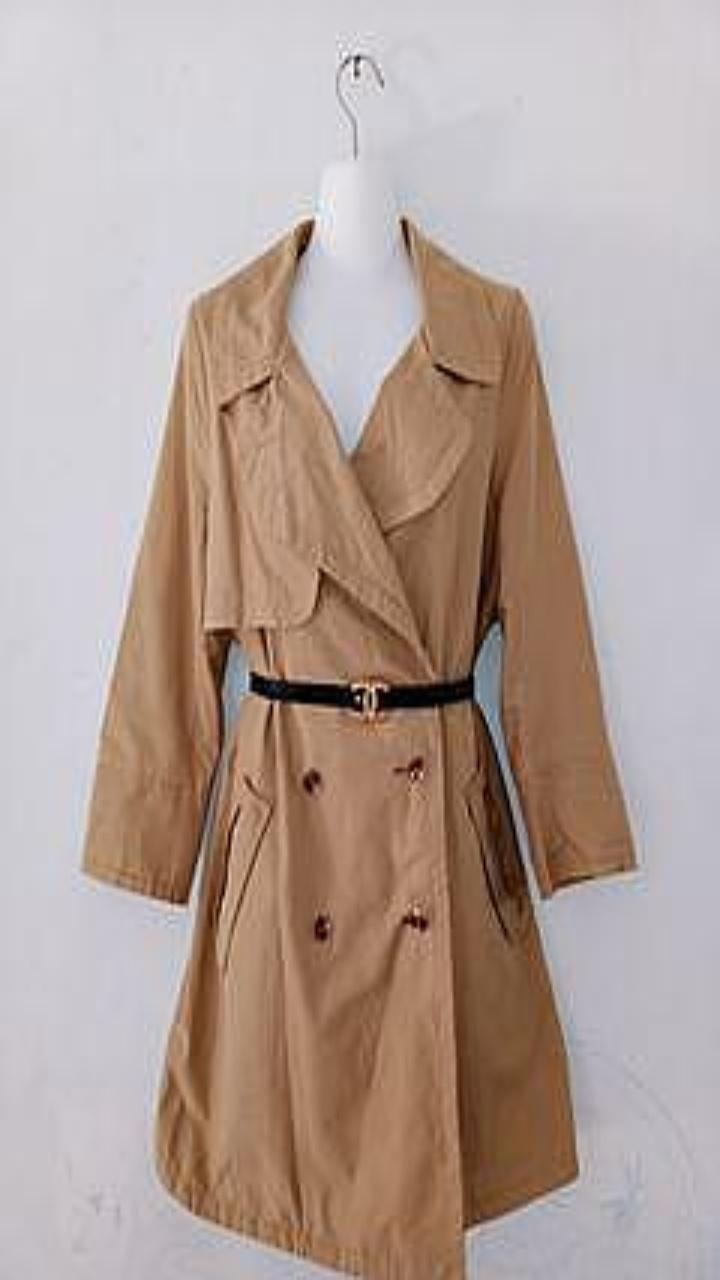Coat: (82, 216, 635, 1279)
